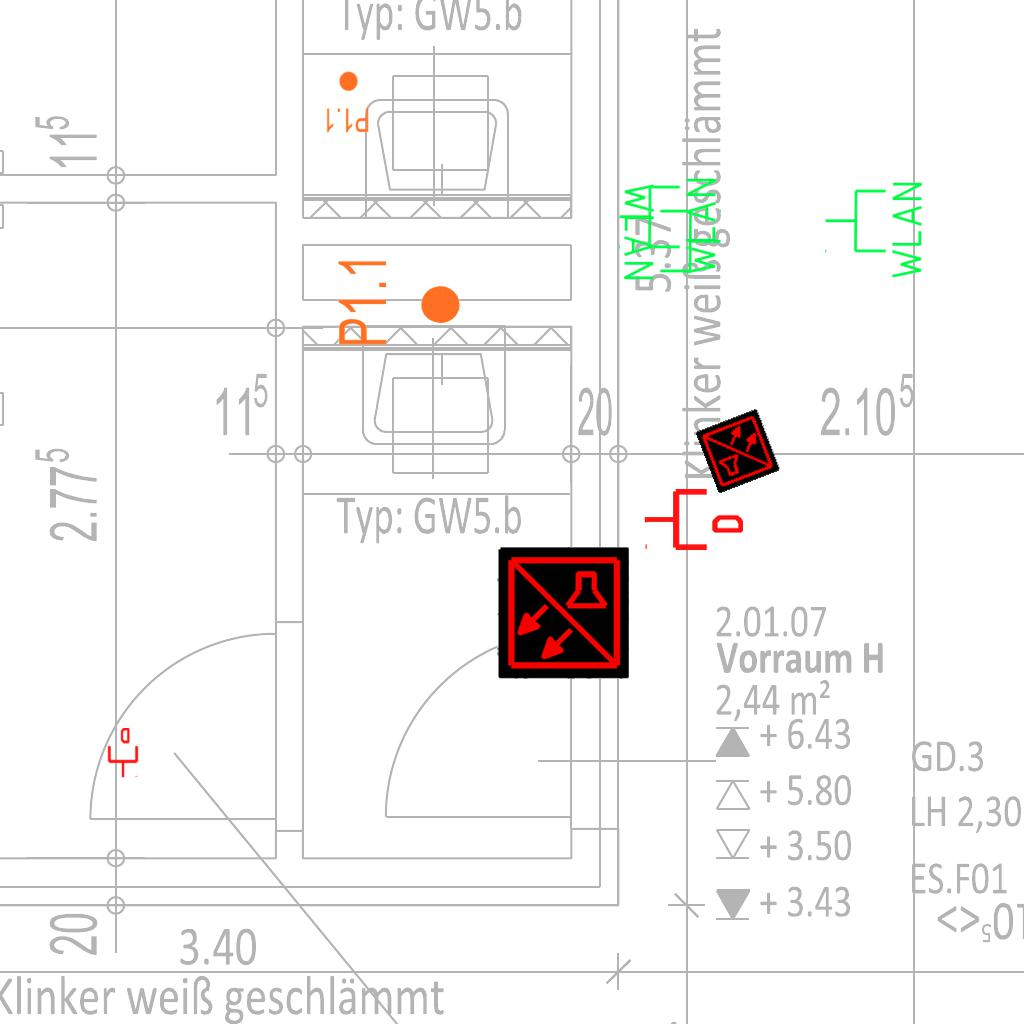Datenanschluss_einfach: (643, 485, 743, 554), (106, 728, 140, 778)
Downlight_LED_Einbauleuchten_Flur: (335, 255, 463, 348), (324, 70, 370, 134)
OKW_Multisensormelder_(Kombination_optischer_Rauch-Kahlenmonoxid_Waerme-Melder): (497, 547, 629, 679), (695, 408, 781, 494)
WLAN: (822, 178, 926, 283), (616, 174, 720, 279), (620, 179, 724, 284)
